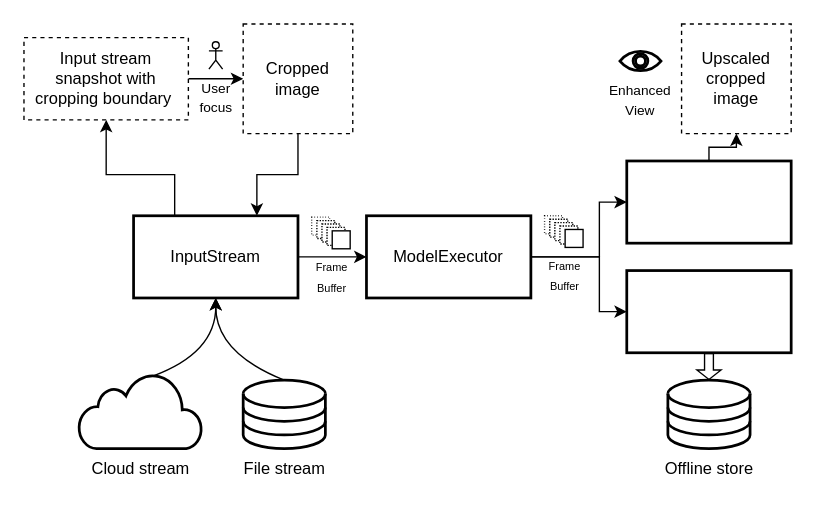
This 817x514 diagram has some shape labels left out. Here are the shapes that lost their labels. From the top down, the centre of each, then its label:
the point at 708,201: OutputStream
the point at 708,311: FileWriter
